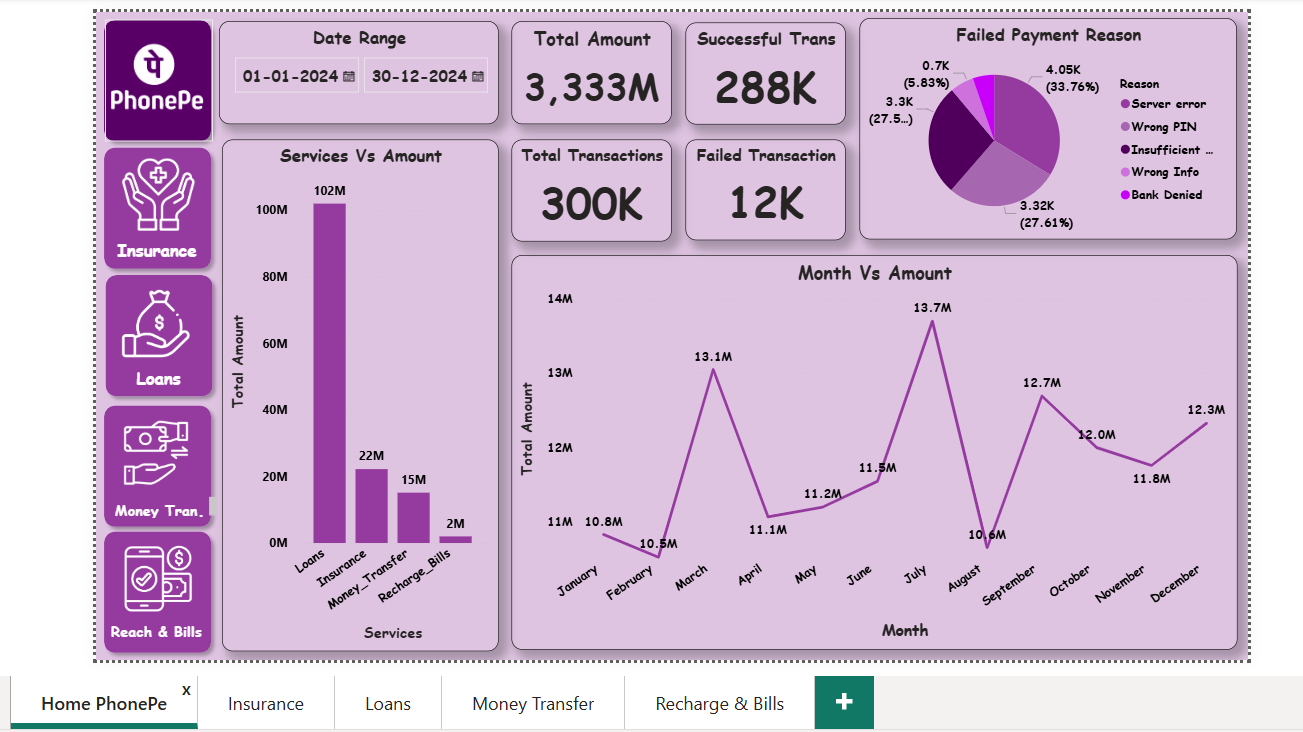

Layout of this report page (visuals, bound fields, positions):
{"tool":"powerbi","page":{"name":"Home PhonePe","canvas":[1280,720],"ordinal":0},"visuals":[{"type":"shape","box":[0,0,136.8,152.7],"z":0,"group":"g2"},{"type":"slicer","title":"Date Range","fields":{"Values":["All_Transactions.Date"]},"box":[136,9.7,310.9,115],"z":0},{"type":"shape","box":[0,141.6,136.8,152.7],"z":0,"group":"g1"},{"type":"shape","box":[1.6,283.1,136.8,152.7],"z":0,"group":"g3"},{"type":"shape","box":[0,427.9,136.8,152.7],"z":0,"group":"g4"},{"type":"shape","box":[0,567.8,136.8,152.7],"z":0,"group":"g5"},{"type":"image","box":[6.4,12.7,120.9,122.5],"z":5,"group":"g2"},{"type":"card","title":"Total Amount","fields":{"Values":["Sum(All_Transactions.Amount)"]},"box":[461.5,9.7,178.1,115],"z":1000},{"type":"image","box":[14.3,147.9,108.2,108.2],"z":1000,"group":"g1"},{"type":"image","box":[20.7,295.9,95.4,97],"z":1000,"group":"g3"},{"type":"image","box":[19.1,443.8,97,89.1],"z":1000,"group":"g4"},{"type":"image","box":[17.5,580.5,105,95.4],"z":1000,"group":"g5"},{"type":"card","title":"Successful Trans","fields":{"Values":["Count(All_Transactions.Transaction_ID)"]},"box":[655.8,11.3,178.1,113.3],"z":2000},{"type":"textbox","box":[4.8,246.5,125.7,36.6],"z":2000,"group":"g1"},{"type":"textbox","box":[8,388.1,122.5,39.8],"z":2000,"group":"g3"},{"type":"textbox","box":[11.1,532.9,127.2,33.4],"z":2000,"group":"g4"},{"type":"textbox","box":[8,671.2,117.7,49.3],"z":2000,"group":"g5"},{"type":"group","id":"g1","title":"Group 2","box":[0,0,136.8,294.3],"z":3000,"group":"g3"},{"type":"group","id":"g2","title":"Group 1","box":[0,0,136.8,152.7],"z":3000,"group":"g1"},{"type":"card","title":"Total Transactions","fields":{"Values":["Count(All_Transactions.Transaction_ID)"]},"box":[461.5,140.9,178.1,113.3],"z":3000},{"type":"card","title":"Failed Transaction","fields":{"Values":["Count(All_Transactions.Transaction_ID)"]},"box":[655.8,142.2,178.2,111.8],"z":4000},{"type":"pieChart","title":"Failed Payment Reason","fields":{"Category":["All_Transactions.Reason"],"Y":["CountNonNull(All_Transactions.Reason)"]},"box":[848.5,6.5,419.4,246.1],"z":5000},{"type":"lineChart","title":"Month Vs Amount","fields":{"Category":["All_Transactions.Date.Variation.Date Hierarchy.Month"],"Y":["Sum(All_Transactions.Amount)"]},"box":[461.5,270.4,806.4,438.8],"z":6000},{"type":"clusteredColumnChart","title":"Services Vs Amount","fields":{"Y":["Sum(All_Transactions.Amount)"],"Category":["All_Transactions.Service"]},"box":[139.3,140.9,307.7,568.3],"z":7000},{"type":"group","id":"g3","title":"Group 3","box":[0,0,138.4,435.8],"z":8000},{"type":"group","id":"g4","title":"Group 4","box":[0,427.9,138.4,152.7],"z":9000},{"type":"group","id":"g5","title":"Group 5","box":[0,567.8,136.8,152.7],"z":10000},{"type":"actionButton","box":[9.7,8.1,119.8,136],"z":11000},{"type":"actionButton","box":[8.1,147.3,123.1,140.9],"z":12000},{"type":"actionButton","box":[11.3,291.5,119.8,136],"z":13000},{"type":"actionButton","box":[11.3,437.2,119.8,131.2],"z":14000},{"type":"actionButton","box":[9.7,574.8,119.8,136],"z":15000}]}

Visuals, with their boxes on the page's 1280x720 design canvas (x1, y1, x2, y2). These are canvas units, not pixel positions in the 1303x732 screenshot, which may show the page scaled, cropped or inside an application window:
shape: bbox=(0, 0, 137, 153)
"Date Range" slicer: bbox=(136, 10, 447, 125)
shape: bbox=(0, 142, 137, 294)
shape: bbox=(2, 283, 138, 436)
shape: bbox=(0, 428, 137, 581)
shape: bbox=(0, 568, 137, 720)
image: bbox=(6, 13, 127, 135)
"Total Amount" card: bbox=(462, 10, 640, 125)
image: bbox=(14, 148, 122, 256)
image: bbox=(21, 296, 116, 393)
image: bbox=(19, 444, 116, 533)
image: bbox=(18, 580, 122, 676)
"Successful Trans" card: bbox=(656, 11, 834, 125)
textbox: bbox=(5, 246, 130, 283)
textbox: bbox=(8, 388, 130, 428)
textbox: bbox=(11, 533, 138, 566)
textbox: bbox=(8, 671, 126, 720)
"Group 2" group: bbox=(0, 0, 137, 294)
"Group 1" group: bbox=(0, 0, 137, 153)
"Total Transactions" card: bbox=(462, 141, 640, 254)
"Failed Transaction" card: bbox=(656, 142, 834, 254)
"Failed Payment Reason" pieChart: bbox=(848, 6, 1268, 253)
"Month Vs Amount" lineChart: bbox=(462, 270, 1268, 709)
"Services Vs Amount" clusteredColumnChart: bbox=(139, 141, 447, 709)
"Group 3" group: bbox=(0, 0, 138, 436)
"Group 4" group: bbox=(0, 428, 138, 581)
"Group 5" group: bbox=(0, 568, 137, 720)
actionButton: bbox=(10, 8, 130, 144)
actionButton: bbox=(8, 147, 131, 288)
actionButton: bbox=(11, 292, 131, 428)
actionButton: bbox=(11, 437, 131, 568)
actionButton: bbox=(10, 575, 130, 711)
